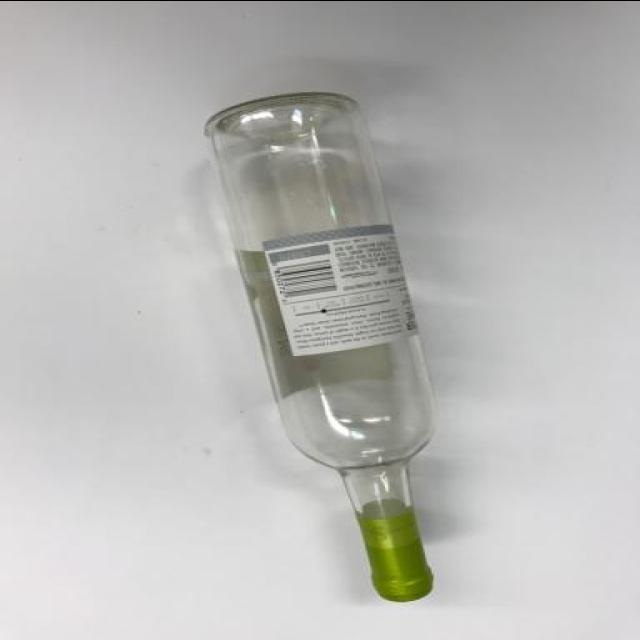litter: (198, 83, 440, 605)
